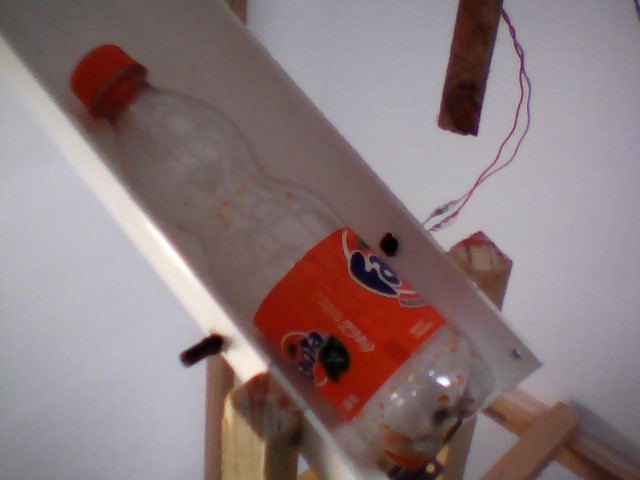plastico: (65, 35, 506, 480)
